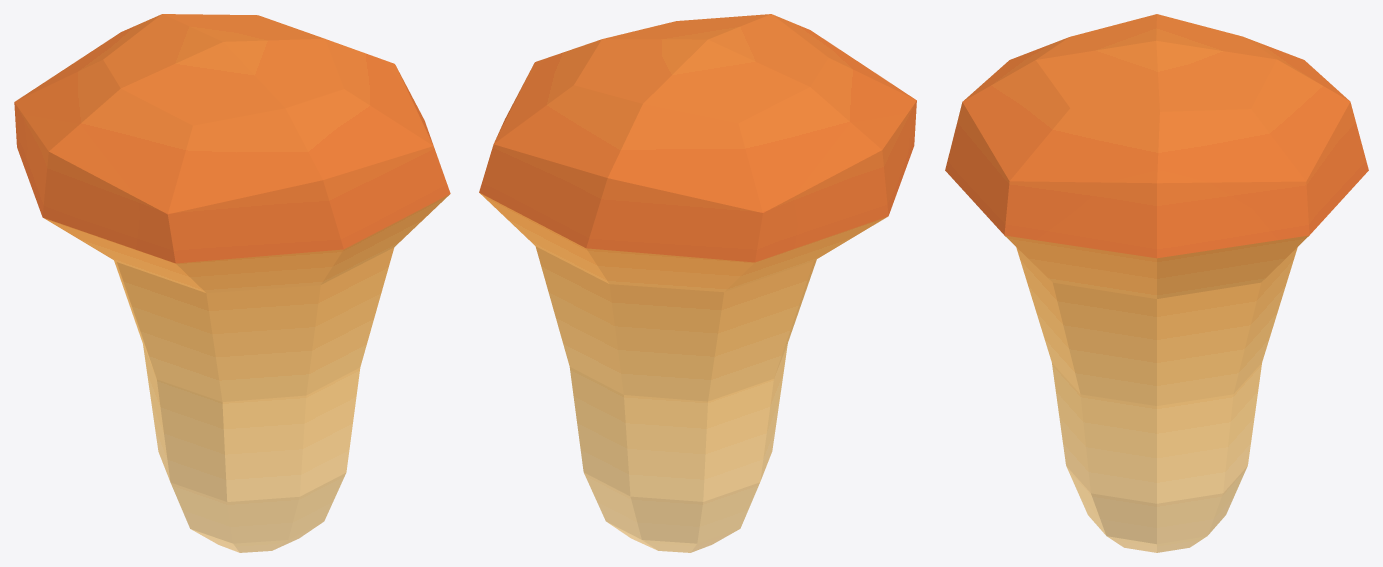
The model's file is small_chanterelle.glb.
The picture shows the model from 3 angles, left to right: view 1: azimuth 30°, elevation 25°; view 2: azimuth 150°, elevation 25°; view 3: azimuth 270°, elevation 25°; orthographic projection. The views are drawn at different scales.
Parts seen in each view (by area): view 1: Chanterelle_small; view 2: Chanterelle_small; view 3: Chanterelle_small.
Part boxes in pixels (<box>): Chanterelle_small: <box>14,14,450,552</box>; Chanterelle_small: <box>479,14,916,552</box>; Chanterelle_small: <box>945,14,1368,552</box>.
Bounding box in the file's own units: 3.84 × 4.89 × 3.84.
Materials: 1 (1 with a texture image).
